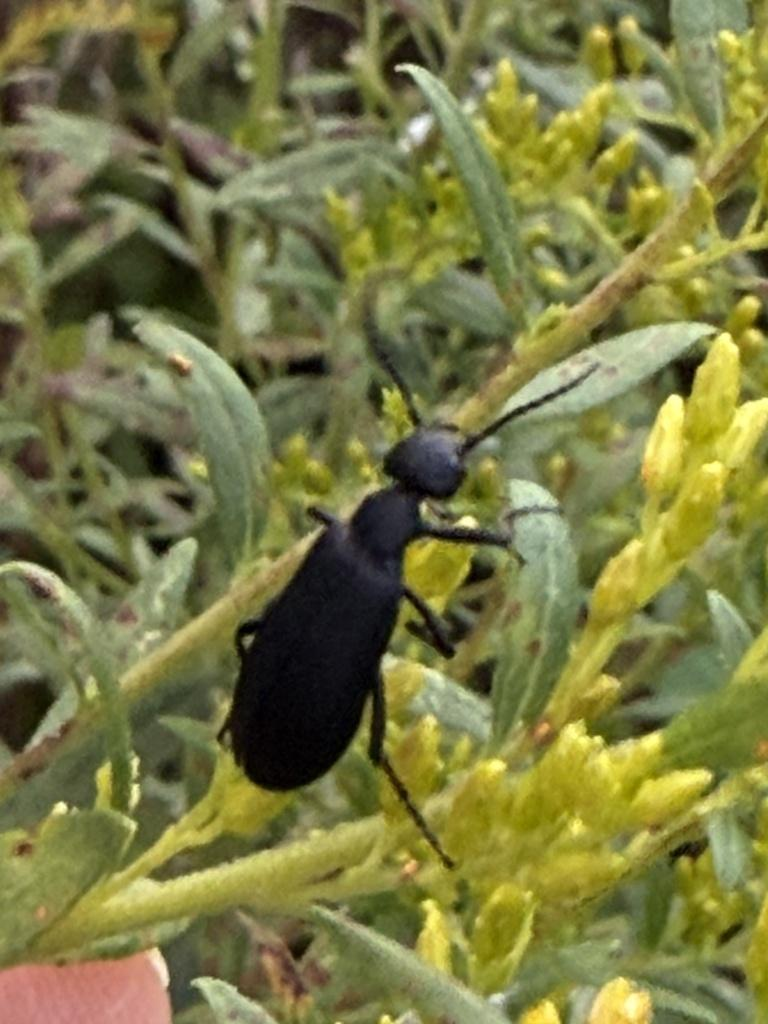blister_beetle: (101, 289, 685, 937)
